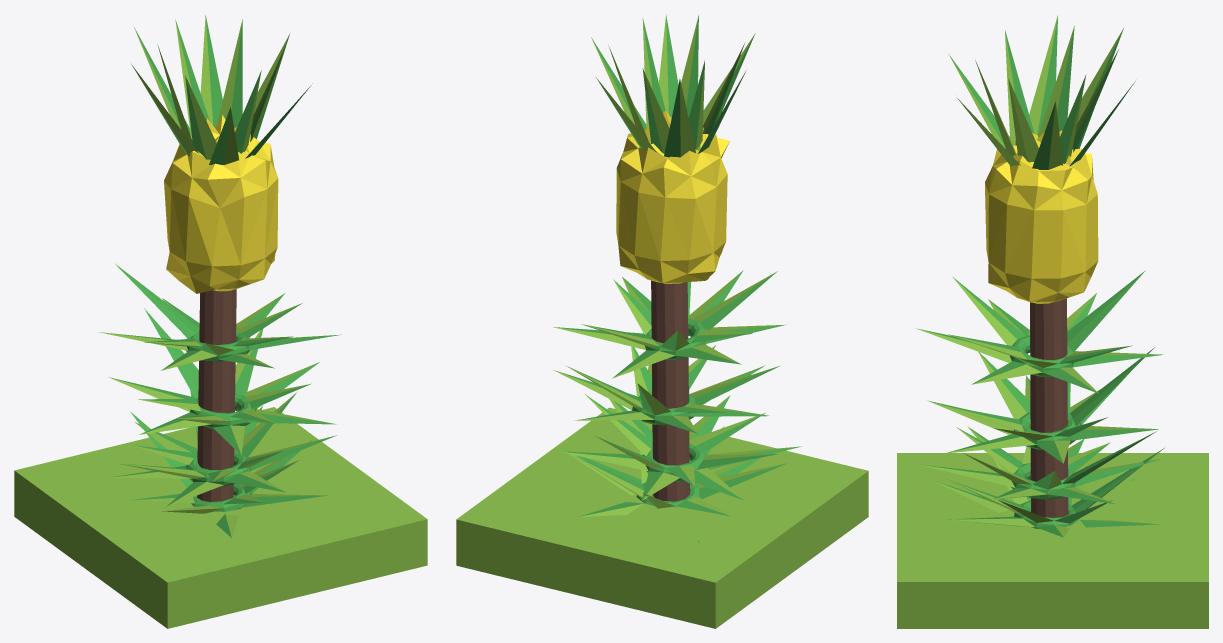
The picture shows the model from 3 angles, left to right: view 1: azimuth 30°, elevation 25°; view 2: azimuth 150°, elevation 25°; view 3: azimuth 270°, elevation 25°; orthographic projection.
Visible parts, largest first — view 1: mesh_1537693769, group_1838398981; view 2: group_1838398981, mesh_1537693769; view 3: group_1838398981, mesh_1537693769.
Boxes of the visible parts, <box> form: mesh_1537693769: <box>14,407,427,628</box>; group_1838398981: <box>98,15,341,537</box>; group_1838398981: <box>553,14,801,543</box>; mesh_1537693769: <box>456,407,868,628</box>; group_1838398981: <box>916,15,1164,537</box>; mesh_1537693769: <box>897,453,1208,628</box>.
Size of the model in its own units: 47 by 87.07 by 48.
